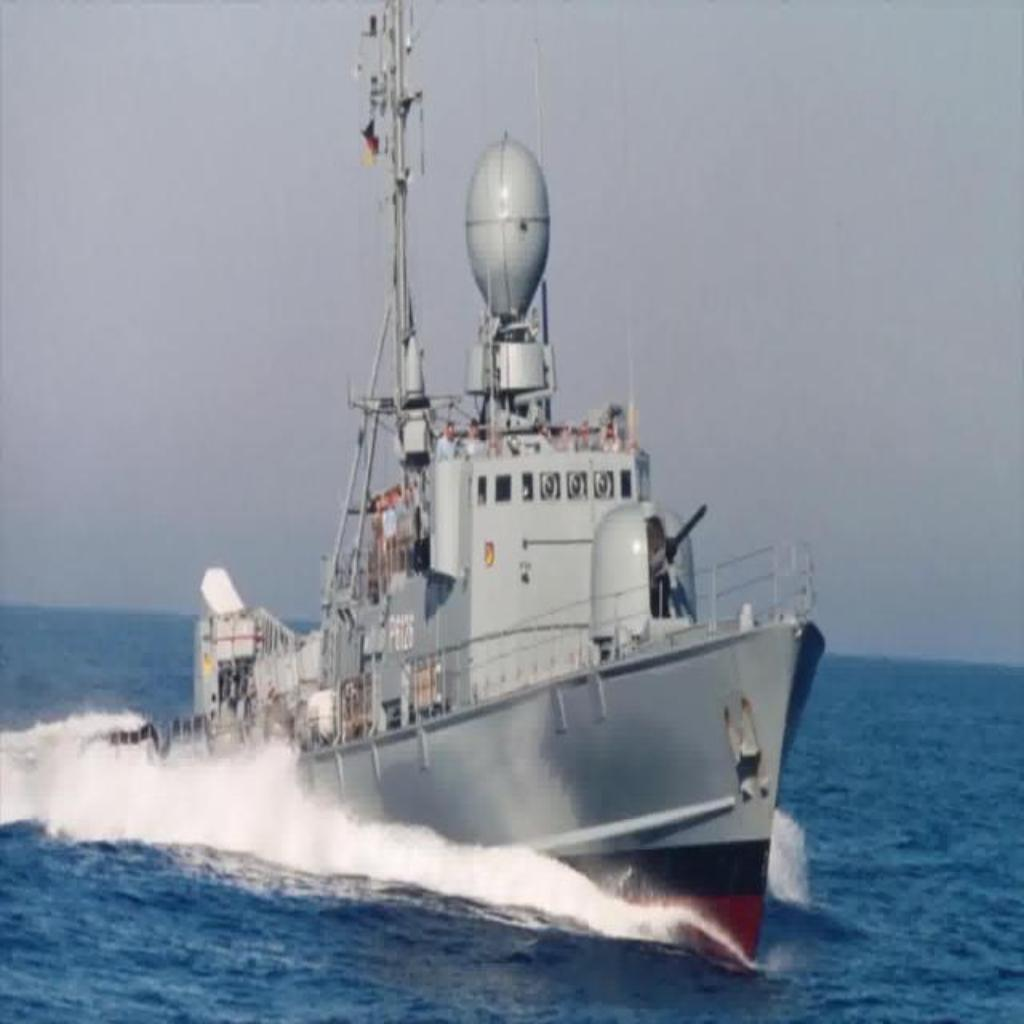Warship: (72, 0, 828, 958)
